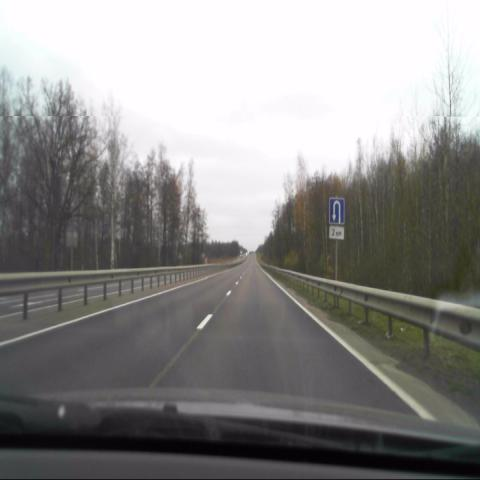6_3_1: (328, 197, 344, 227)
